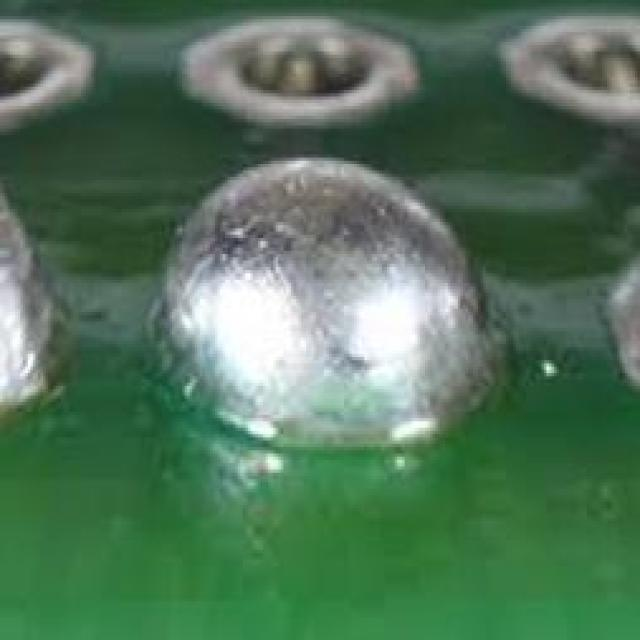slug: (152, 148, 506, 450)
